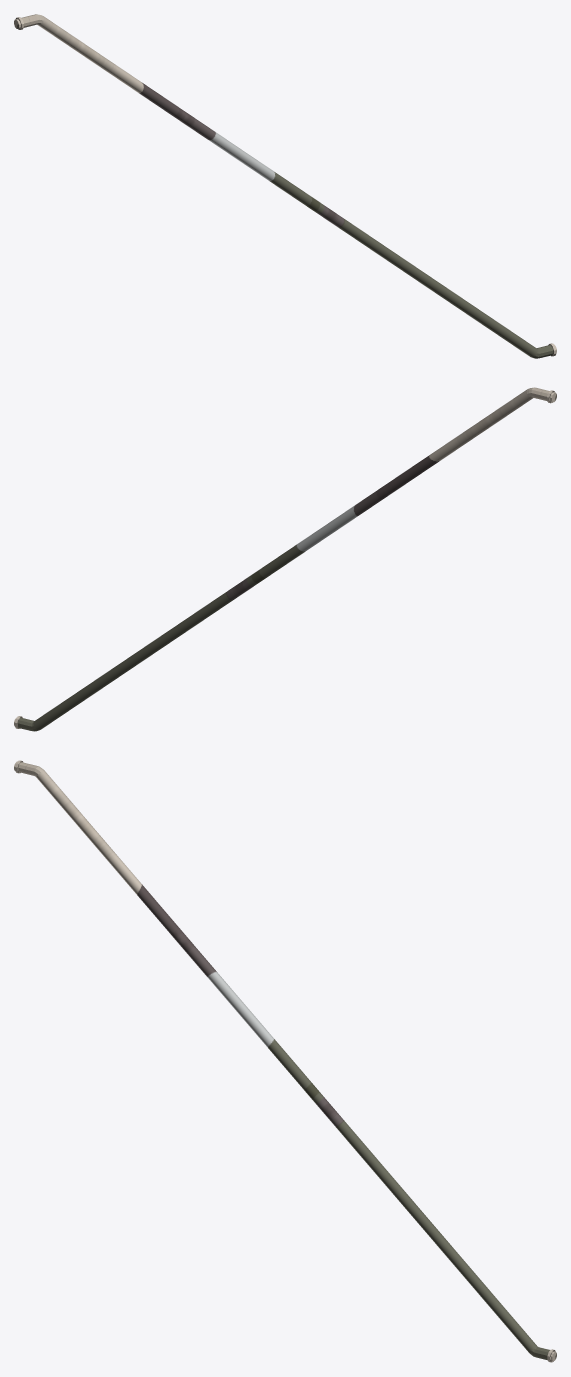
The model's file is stair_stick_01.fbx.
The picture shows the model from 3 angles, top to bottom: view 1: azimuth 30°, elevation 25°; view 2: azimuth 150°, elevation 25°; view 3: azimuth 330°, elevation 25°; orthographic projection.
Visible parts, largest first — view 1: Object009; view 2: Object009; view 3: Object009.
Boxes of the visible parts, box(x1,y1,x2,y2) form: Object009: box(14, 14, 556, 358); Object009: box(14, 387, 556, 731); Object009: box(14, 760, 556, 1362).
Size of the model in its own units: 709 by 589 by 18.59.
